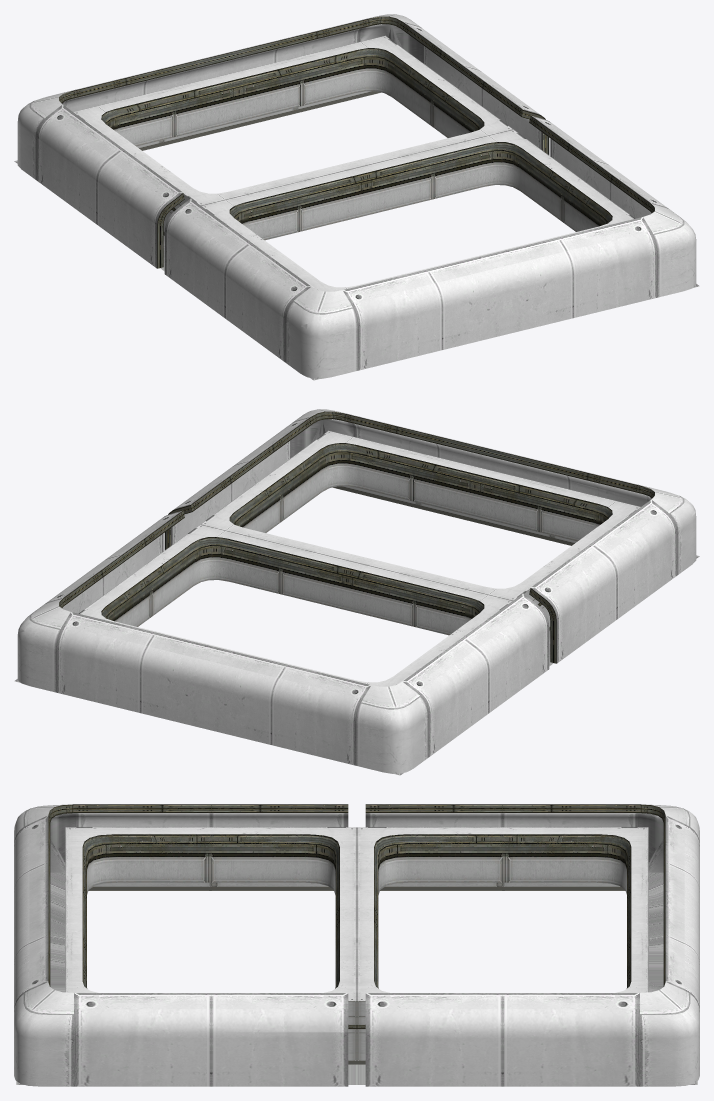
File: Emb_PlanterBalc_3X4dockvis.FBX
3 views of the same model, one above another, from view 1: azimuth 30°, elevation 25°; view 2: azimuth 150°, elevation 25°; view 3: azimuth 270°, elevation 25° (orthographic). The views are drawn at different scales.
Parts seen in each view (by area): view 1: Emb_PlanterBalc_3X4dockvis; view 2: Emb_PlanterBalc_3X4dockvis; view 3: Emb_PlanterBalc_3X4dockvis.
Part boxes in pixels (x1=…): Emb_PlanterBalc_3X4dockvis: x1=14, y1=14, x2=699, y2=380; Emb_PlanterBalc_3X4dockvis: x1=14, y1=409, x2=699, y2=775; Emb_PlanterBalc_3X4dockvis: x1=14, y1=804, x2=699, y2=1086.
Size of the model in its own units: 3 by 0.511 by 4.
